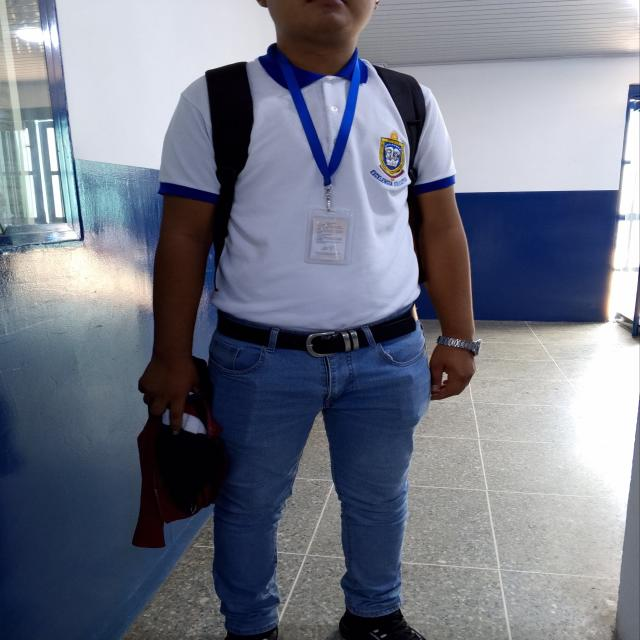carnet: (310, 218, 349, 261)
uniforme_superior: (157, 41, 458, 330)
